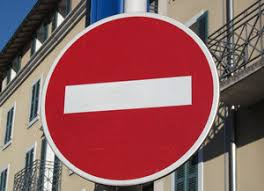No_entry: (40, 12, 220, 186)
